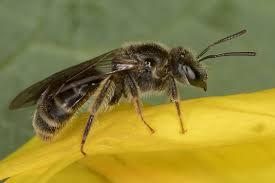Lasioglossum: (10, 20, 258, 162)
